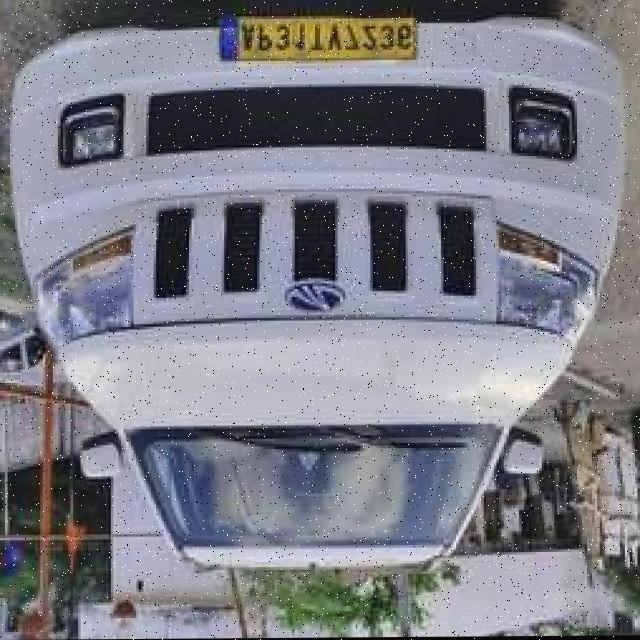plate: (217, 15, 417, 66)
